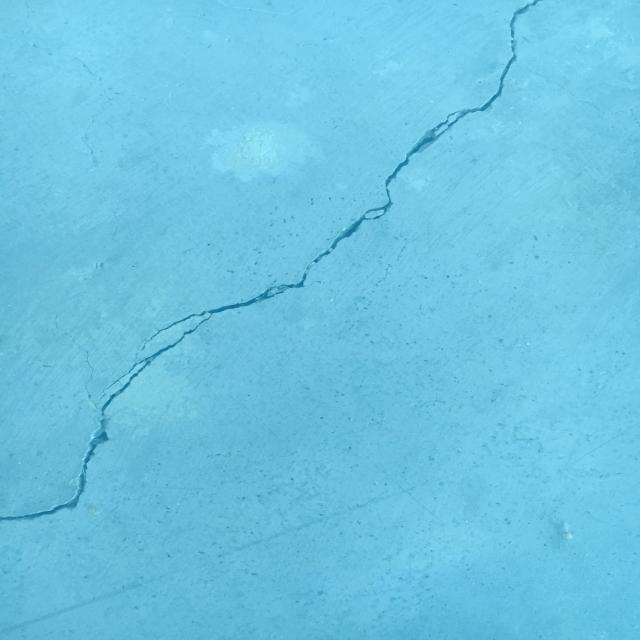crack: (0, 0, 543, 523)
